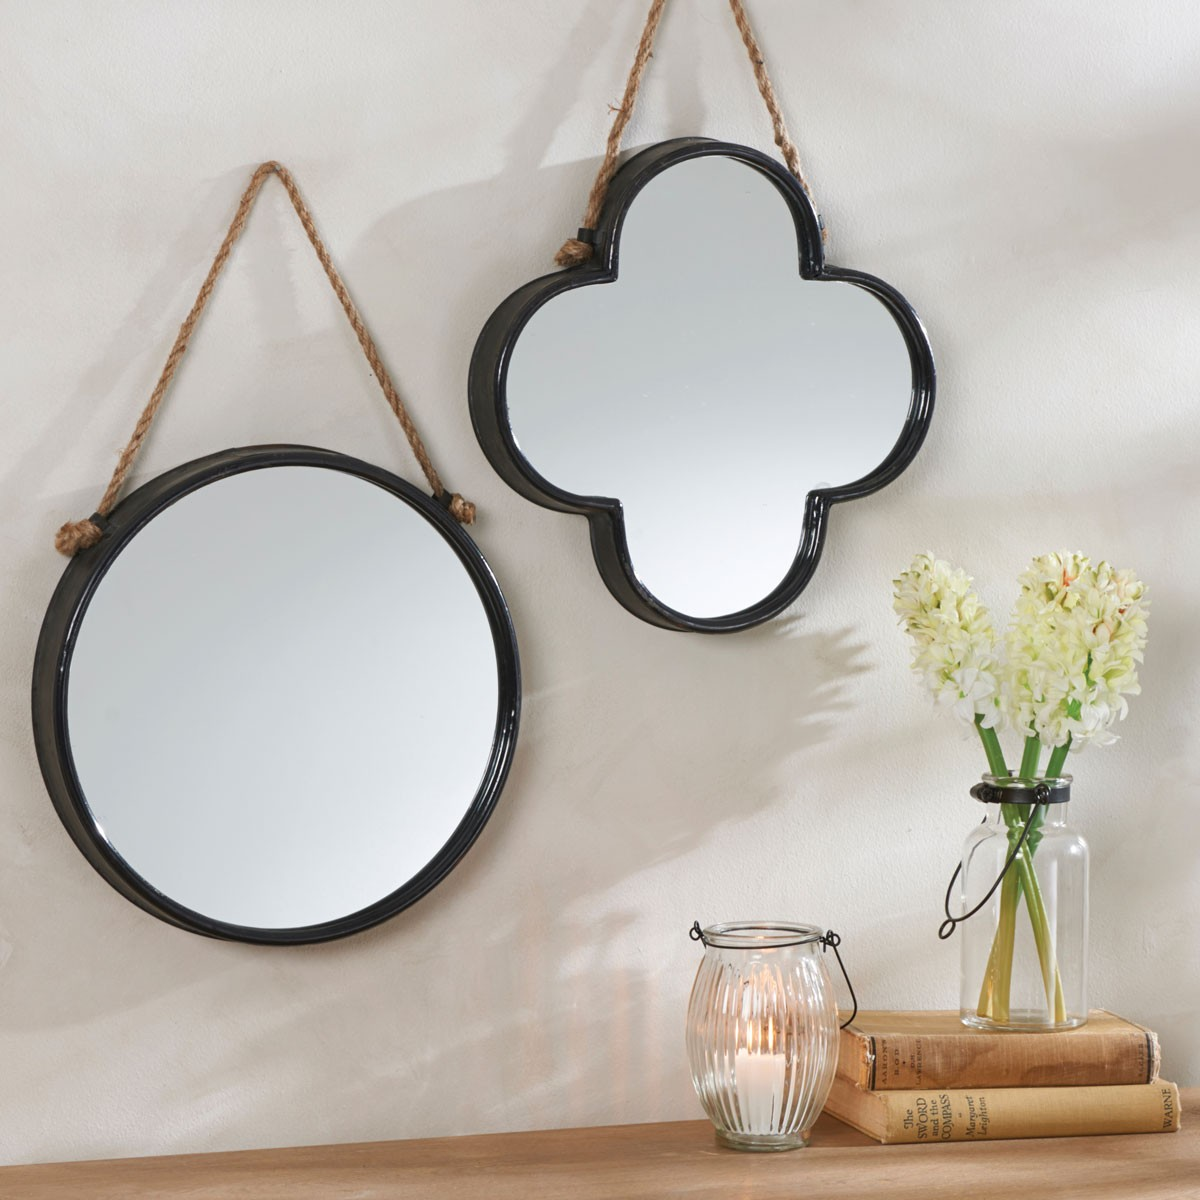Nonrec_Glass: (15, 421, 615, 997), (471, 104, 979, 653)
